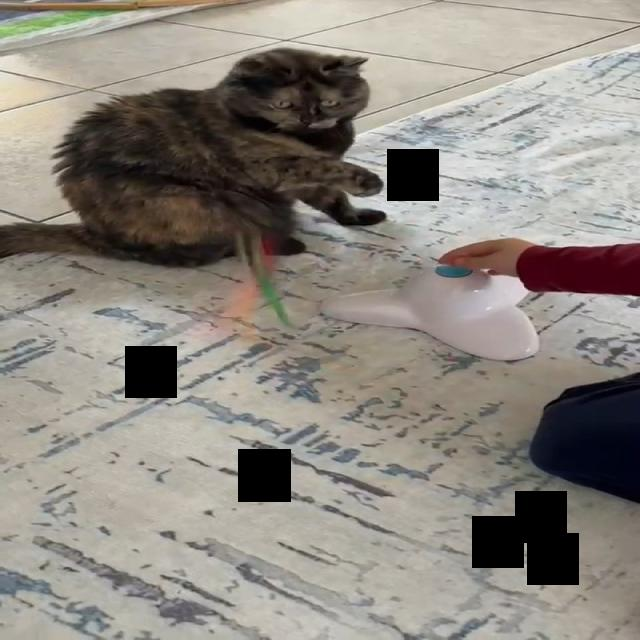authorized: (0, 46, 387, 268)
